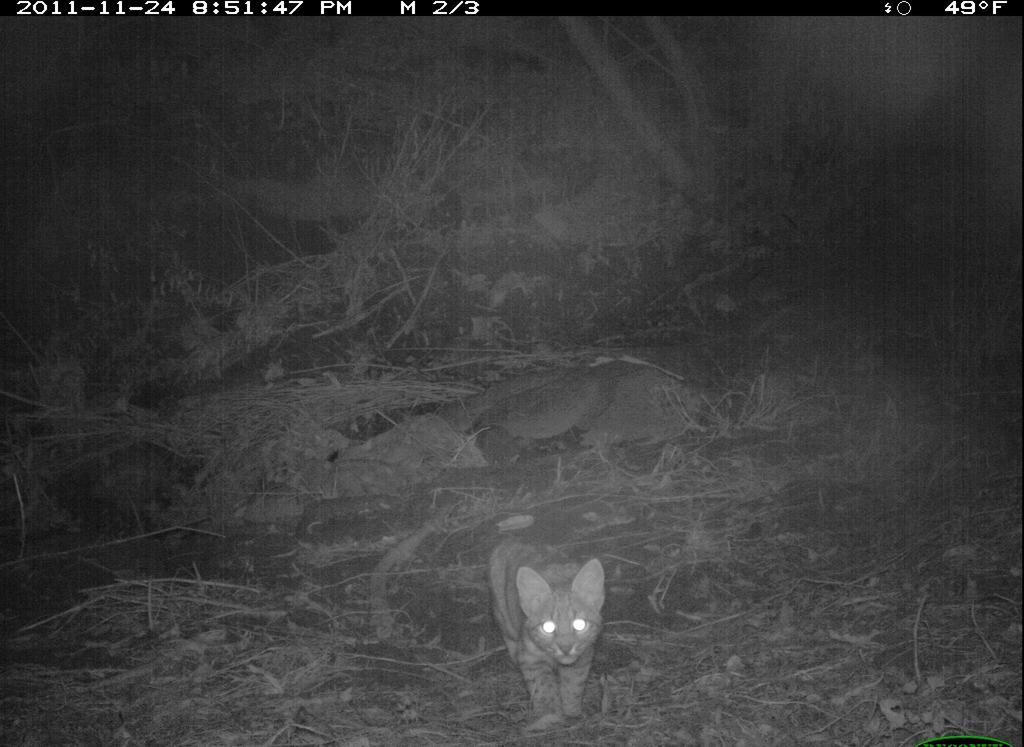bobcat: (479, 532, 634, 729)
